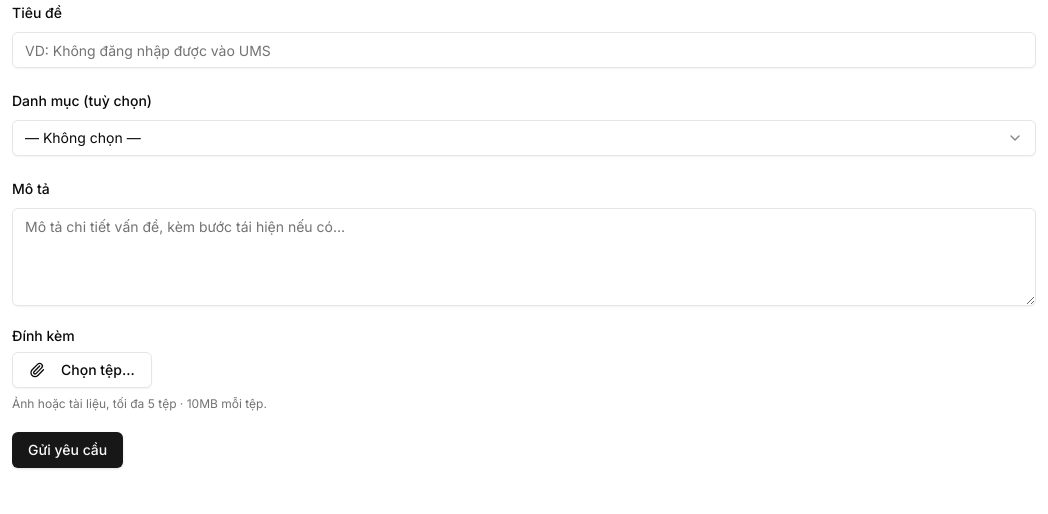
Test: TicketForm (S1) › S1-X1: blocks submit and shows a title error when title is too short
The image size is (1048, 514).
Type "ab" into the field labelled "Tiêu đề". click: (524, 50)
box: x1=12 y1=32 x2=1036 y2=68
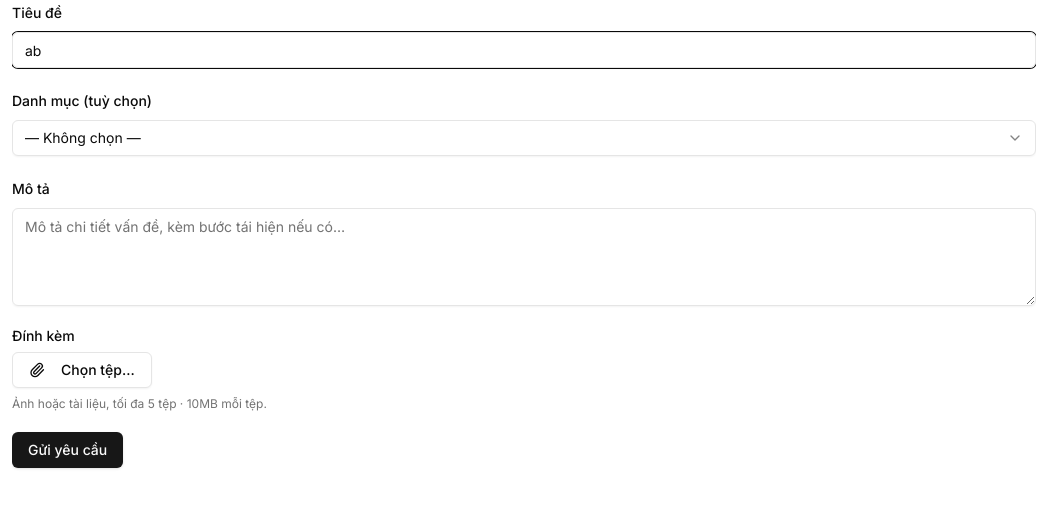
Type "mô tả hợp lệ" into the text box labelled "Mô tả". click: (524, 257)
box: x1=12 y1=208 x2=1036 y2=306
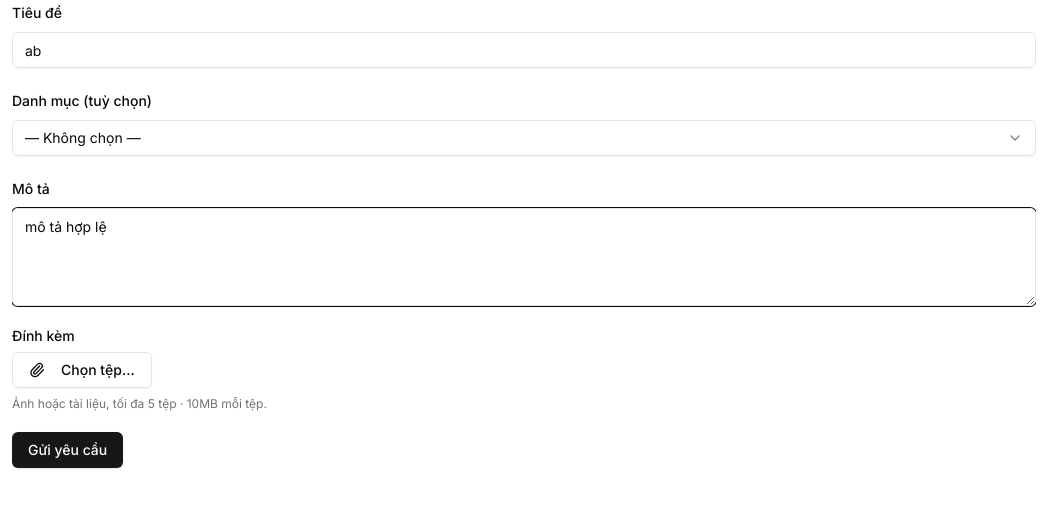
Click the button "Gửi yêu cầu". click: (68, 450)
box: x1=12 y1=432 x2=123 y2=468
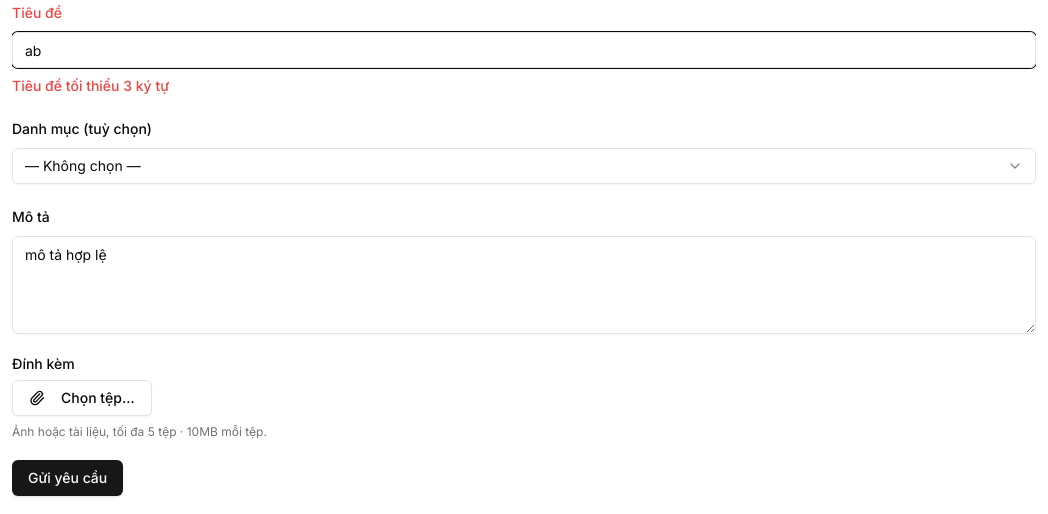
Result: the text "Tiêu đề tối thiểu 3 ký tự" is shown at x1=12 y1=77 x2=169 y2=94
